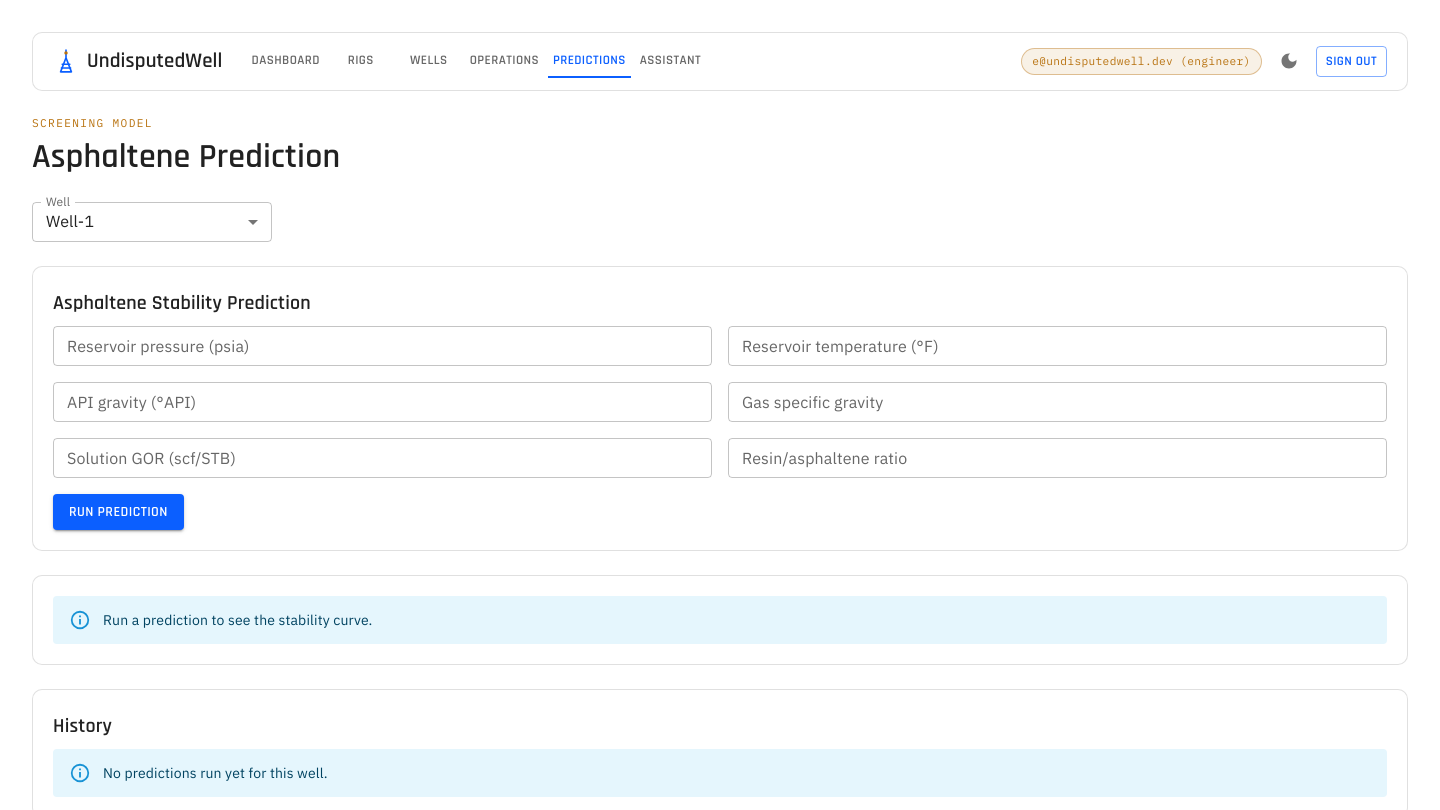
Test case: PredictionPage › runs a prediction and renders the resulting chart
Expected: the heading "Asphaltene Stability Prediction" is shown, [53, 290, 311, 316]
In the field labelled "Reservoir pressure (psia)": (382, 346) [53, 326, 712, 366], type "4000"
In the field labelled "Reservoir temperature (°F)": (1058, 346) [728, 326, 1387, 366], type "180"
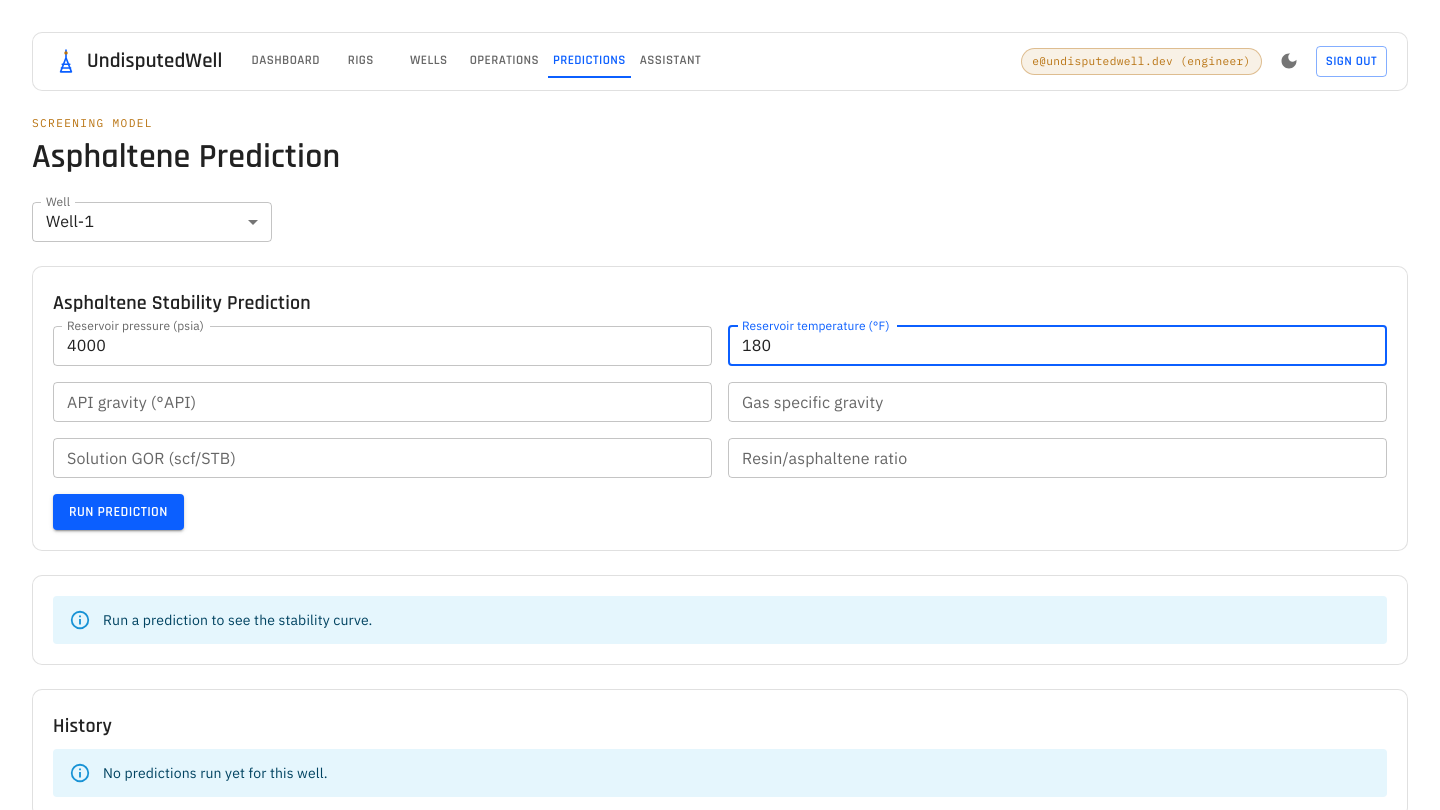
In the field labelled "API gravity (°API)": (382, 402) [53, 382, 712, 422], type "35"
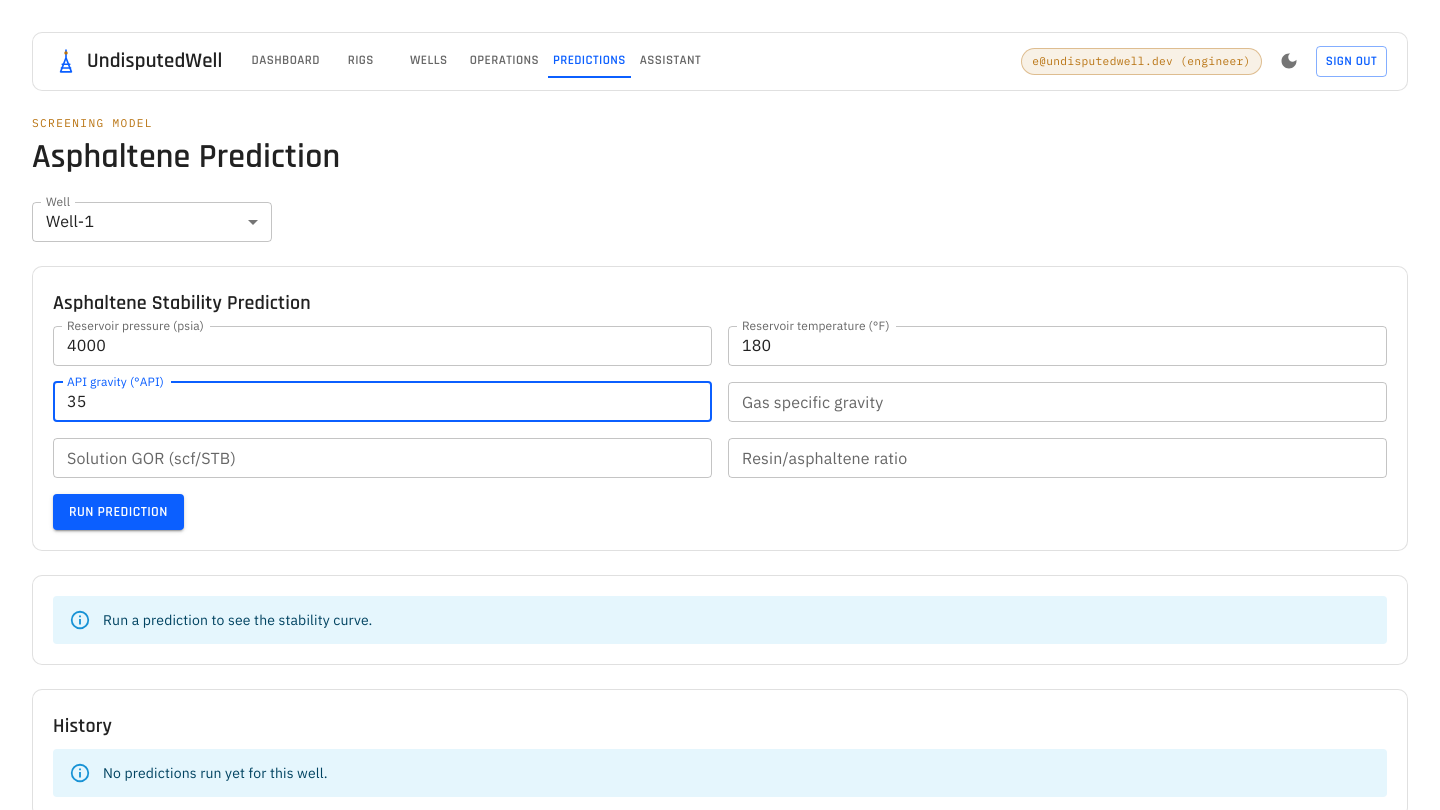
In the field labelled "Gas specific gravity": (1058, 402) [728, 382, 1387, 422], type "0.8"
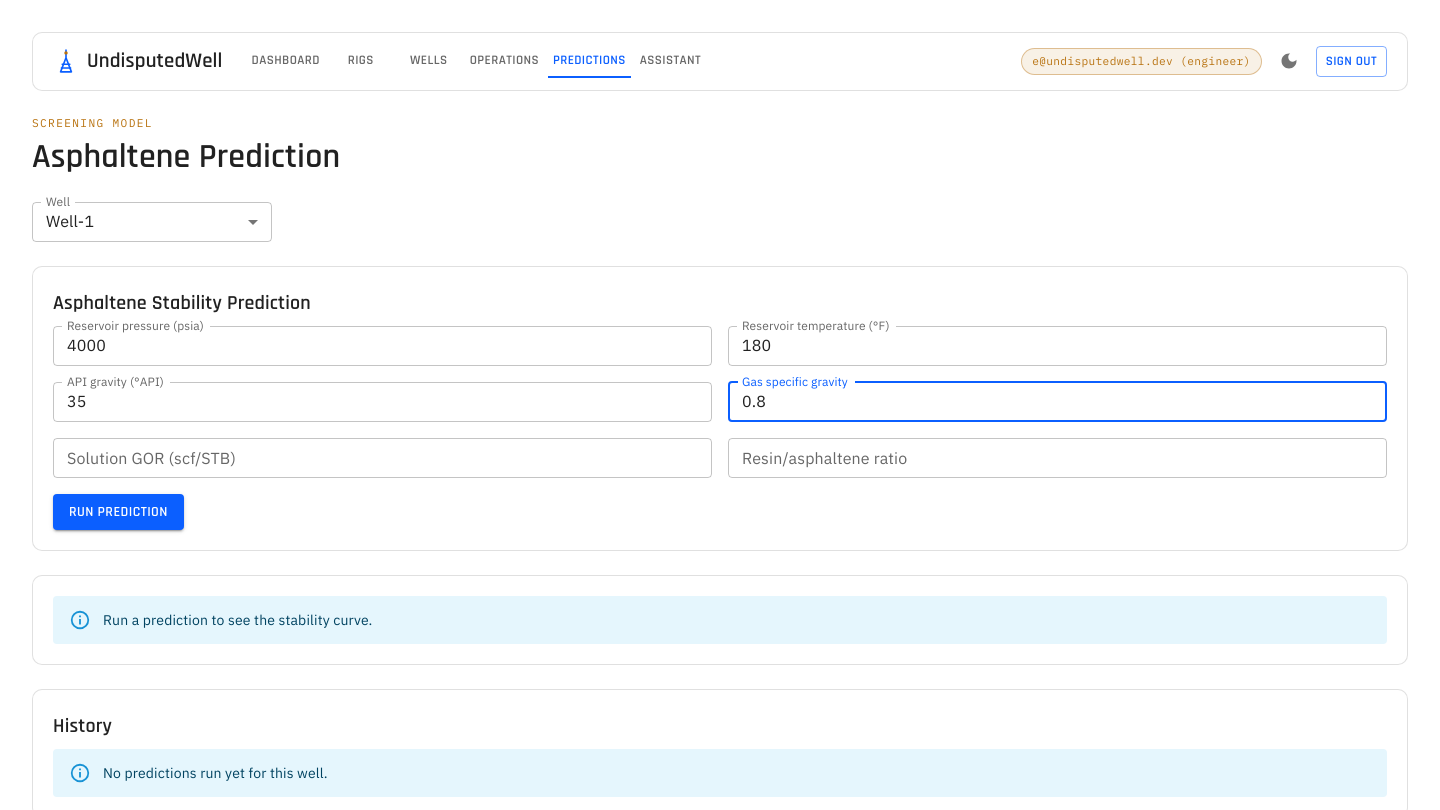
In the field labelled "Solution GOR (scf/STB)": (382, 458) [53, 438, 712, 478], type "600"
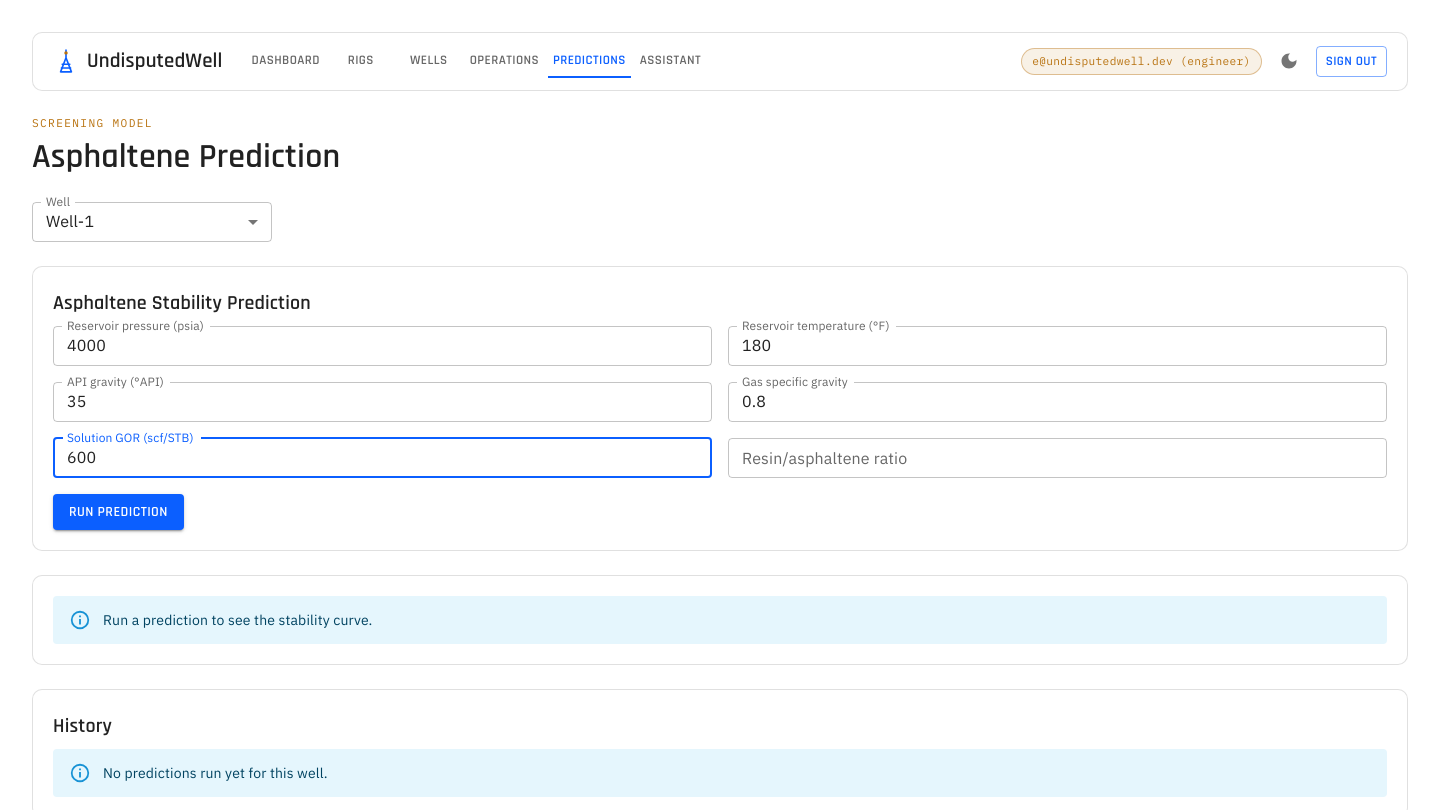
In the field labelled "Resin/asphaltene ratio": (1058, 458) [728, 438, 1387, 478], type "1.5"
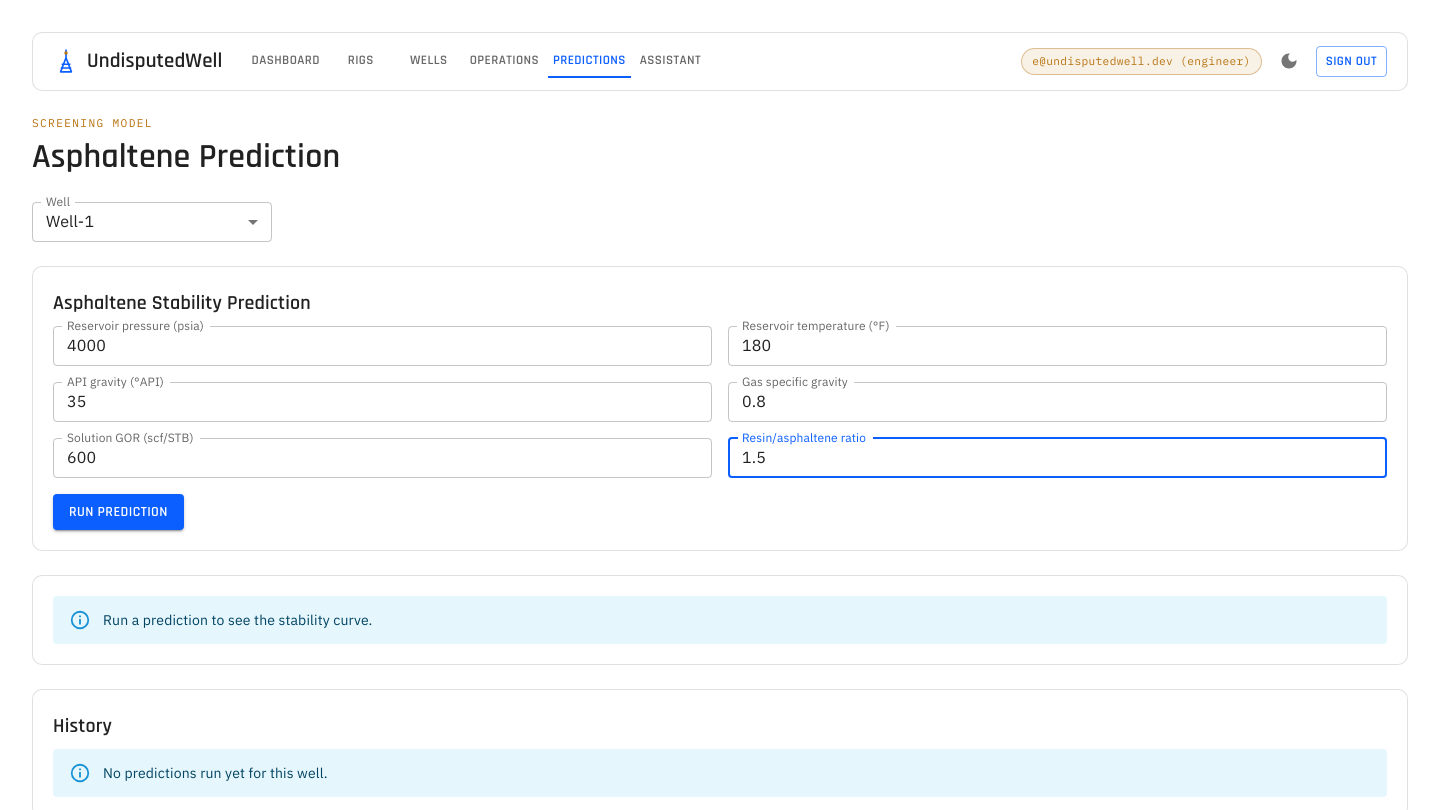
Click the button "Run Prediction": (118, 512) [53, 494, 184, 530]
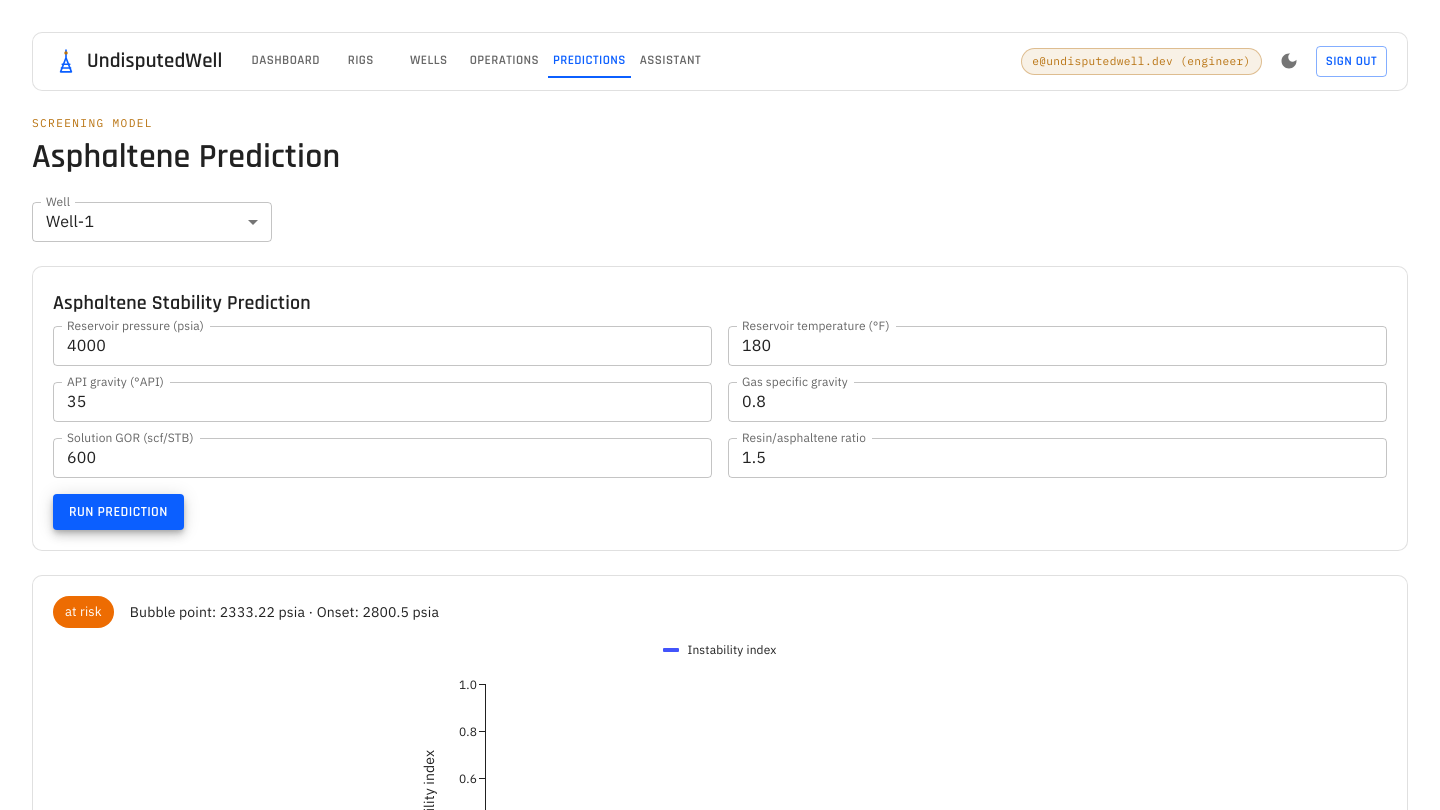
Expected: the element with test id "prediction-risk-chip" reads "at risk", [65, 603, 102, 620]
